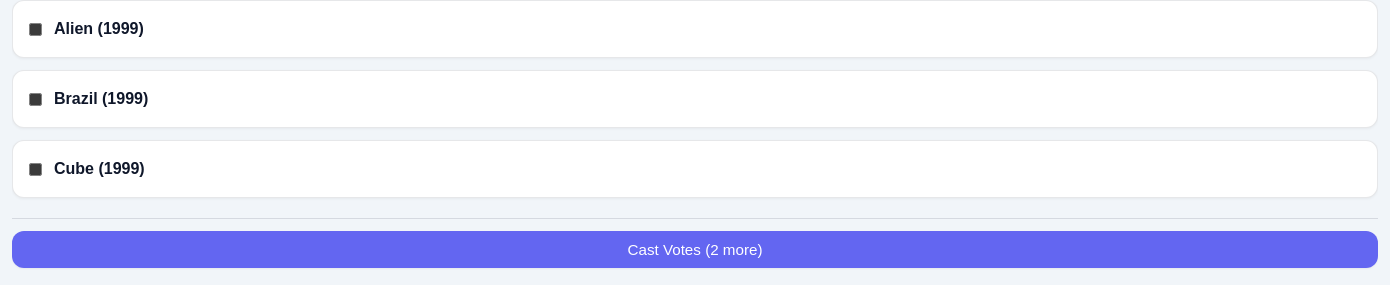
Test: Round 2 - movie voting › stops the user at the round's 2-vote limit
Click the checkbox labelled "Alien (1999)": click(36, 29) [29,22,42,36]
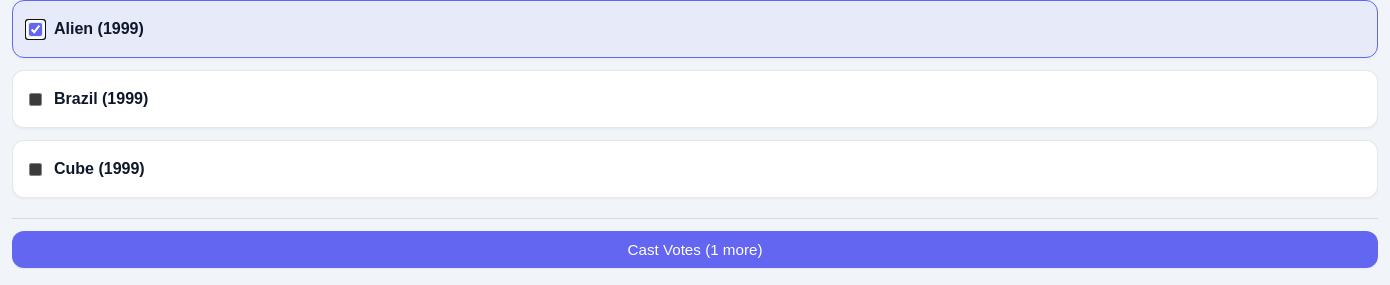
Click the checkbox labelled "Brazil (1999)": click(36, 99) [29,92,42,106]
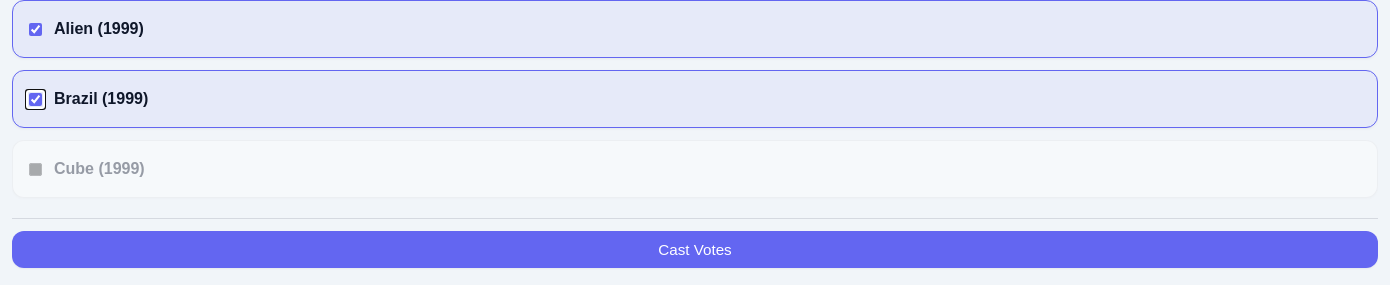
Expected: the checkbox labelled "Cube (1999)" is disabled, [29,162,42,176]
